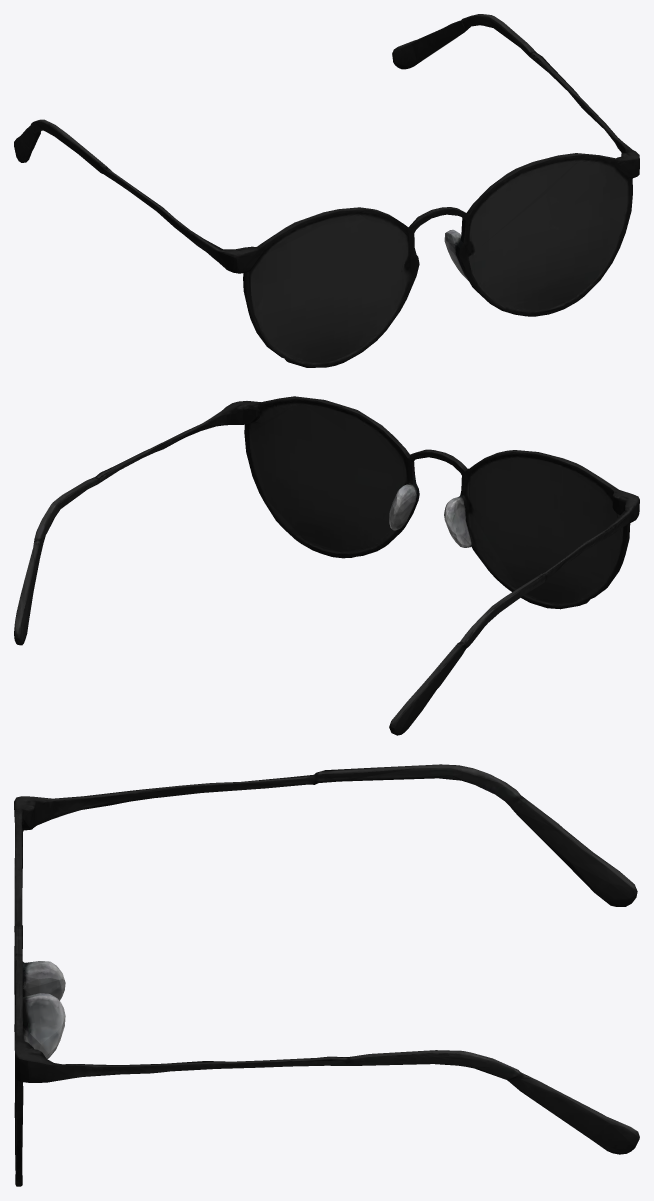
File: shades.glb
3 views of the same model, one above another, from view 1: azimuth 30°, elevation 25°; view 2: azimuth 150°, elevation 25°; view 3: azimuth 270°, elevation 25° (orthographic). The views are drawn at different scales.
Visible parts, largest first — view 1: geometry_0; view 2: geometry_0; view 3: geometry_0.
Part boxes in pixels (bbox=[...]): geometry_0: bbox=[14, 14, 639, 367]; geometry_0: bbox=[14, 396, 639, 735]; geometry_0: bbox=[14, 764, 639, 1186].
Bounding box in the file's own units: 1 × 0.3318 × 0.9198.
Materials: 1 (1 with a texture image).
